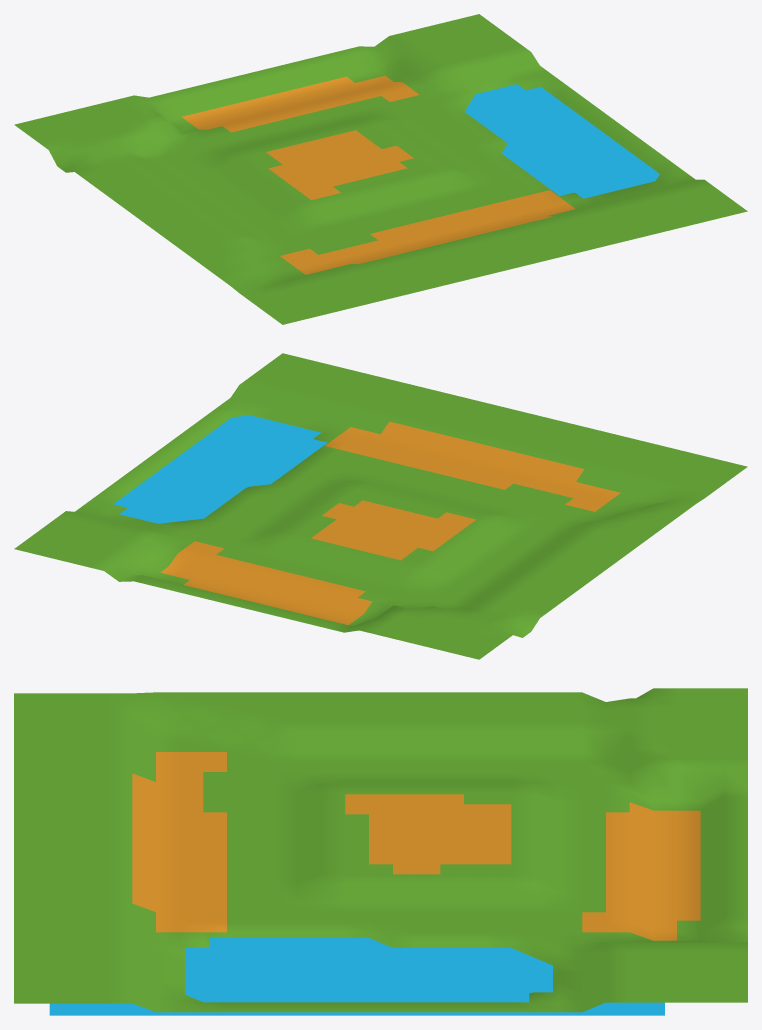
File: terrain.fbx
3 renders of one model, top to bottom at view 1: azimuth 30°, elevation 25°; view 2: azimuth 150°, elevation 25°; view 3: azimuth 270°, elevation 25°, orthographic. The views are drawn at different scales.
Parts seen in each view (by area): view 1: Plane.004; view 2: Plane.004; view 3: Plane.004.
Part boxes in pixels (box(x1,y1,x2,y2)): Plane.004: box(14, 14, 747, 324); Plane.004: box(14, 353, 747, 659); Plane.004: box(14, 688, 747, 1015).
Size of the model in its own units: 30000 by 1236 by 30000.
